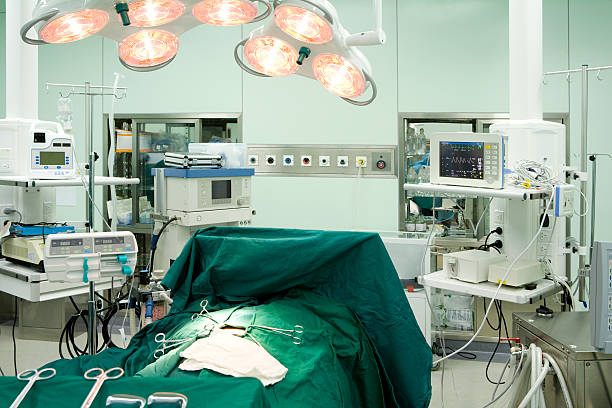bedside_monitor: (425, 128, 503, 189), (206, 175, 239, 205)
electrosurgical_unit: (6, 216, 79, 238)
iv_pole: (43, 83, 133, 353), (60, 81, 128, 355), (540, 64, 612, 309), (575, 152, 612, 309)
surgical_instrument: (9, 298, 304, 408), (14, 362, 208, 407), (250, 316, 304, 345), (152, 328, 204, 355), (186, 301, 238, 328), (186, 301, 225, 324)
surgical_light: (236, 1, 390, 106), (36, 1, 256, 74)
